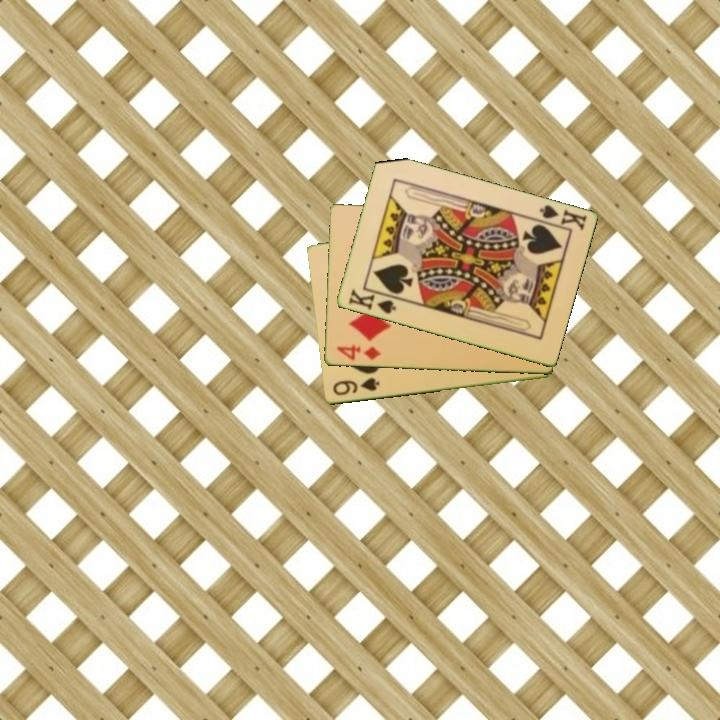4d: (333, 341, 383, 363)
9s: (329, 374, 382, 399)
Ks: (532, 201, 589, 233), (345, 285, 401, 317)
